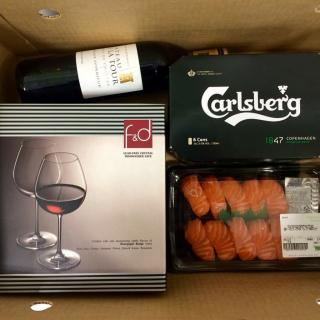Sushi: (176, 173, 298, 255)
